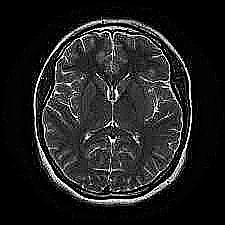Normal_Brain: (1, 3, 225, 225), (1, 6, 17, 7)
